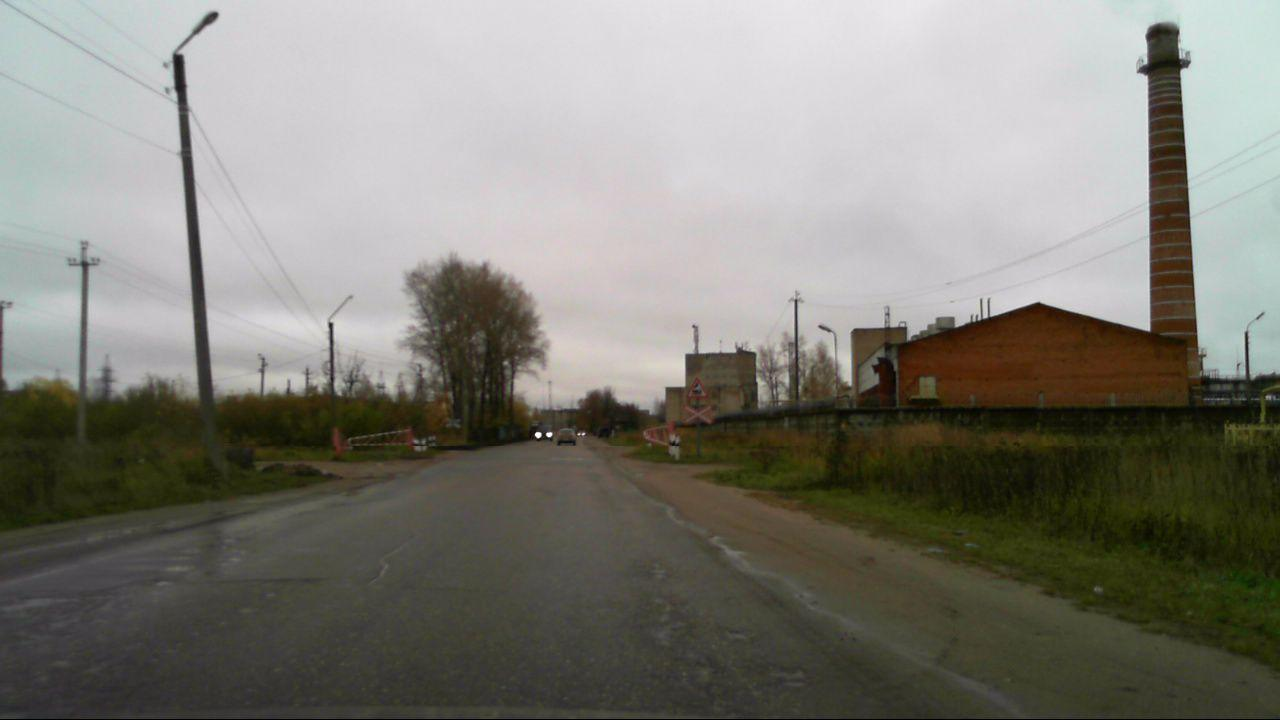1_2: (685, 377, 709, 400)
1_3_1: (683, 403, 714, 424)
